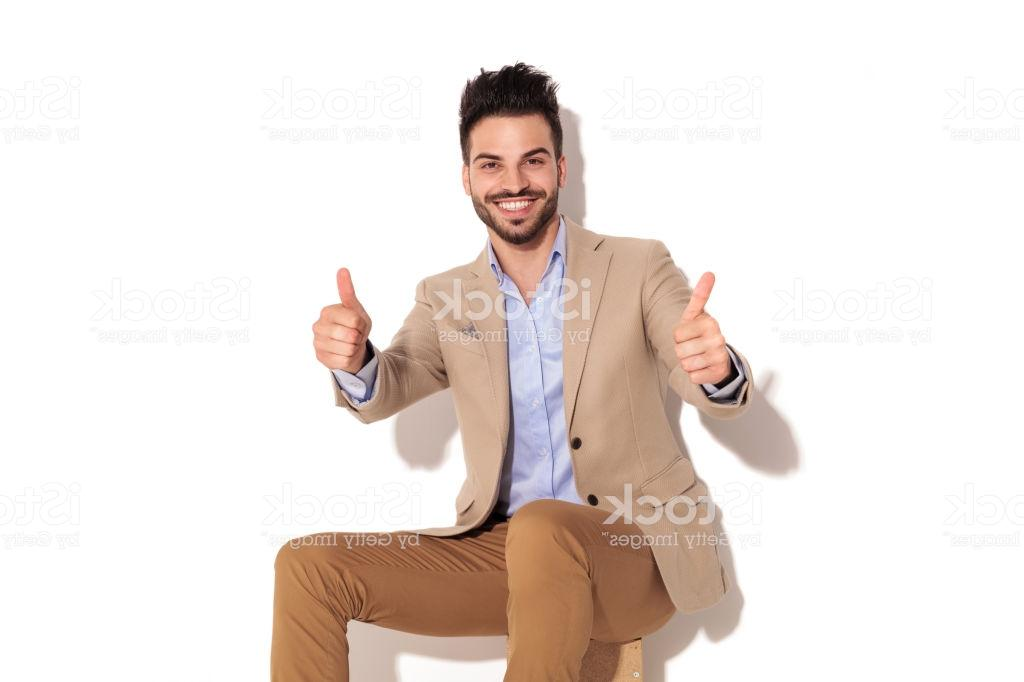thumbsup: (670, 270, 734, 386), (310, 265, 373, 372)
